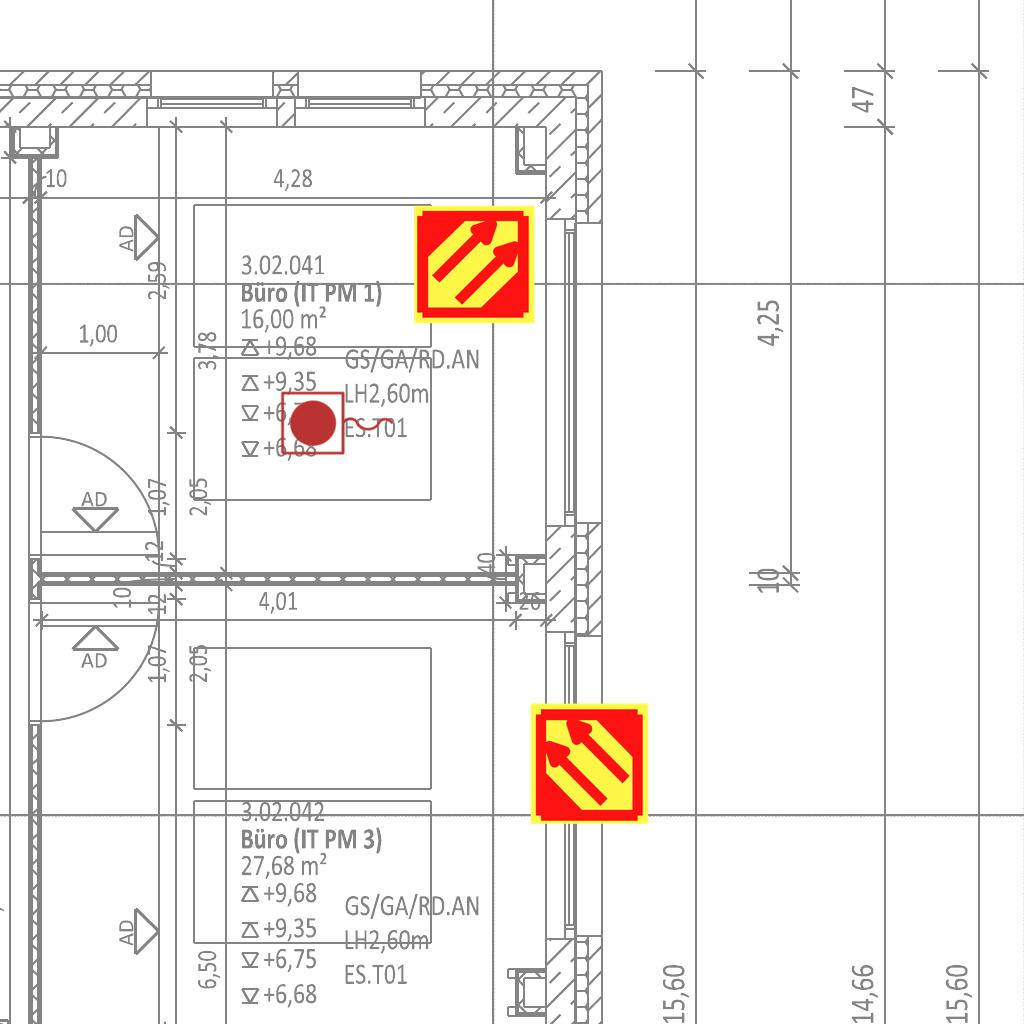ASR_Ansaugrauchmelder: (527, 701, 652, 826), (412, 202, 537, 327)
Zugtaster: (277, 388, 399, 460)
